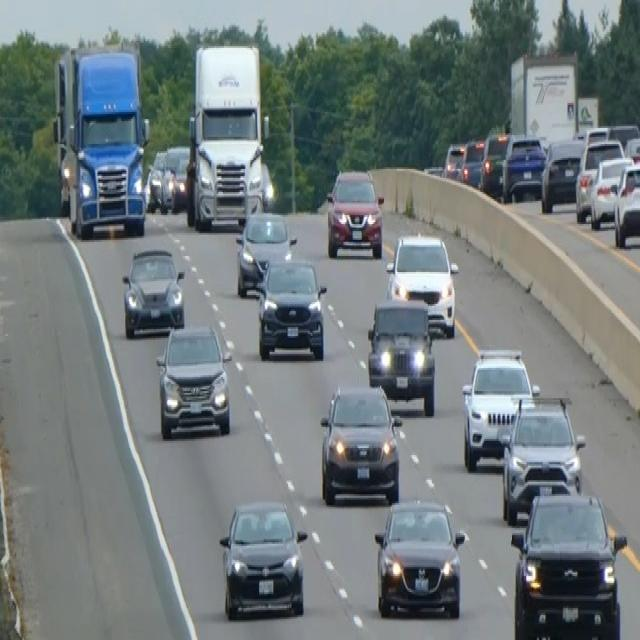car: (509, 489, 627, 638), (500, 391, 585, 525), (373, 496, 465, 619), (218, 496, 307, 620), (319, 380, 402, 505), (461, 345, 538, 471), (155, 322, 232, 439), (366, 293, 436, 416), (385, 231, 458, 338), (255, 256, 327, 361), (121, 245, 185, 338), (234, 210, 296, 297), (325, 167, 384, 258), (574, 137, 624, 220), (540, 137, 585, 211), (589, 155, 634, 229), (501, 133, 546, 201), (613, 158, 639, 247), (479, 130, 510, 196), (146, 148, 171, 212), (459, 137, 485, 187), (170, 154, 190, 212), (442, 140, 465, 180), (623, 135, 639, 165)
lorry: (52, 41, 150, 238), (185, 41, 270, 231)
